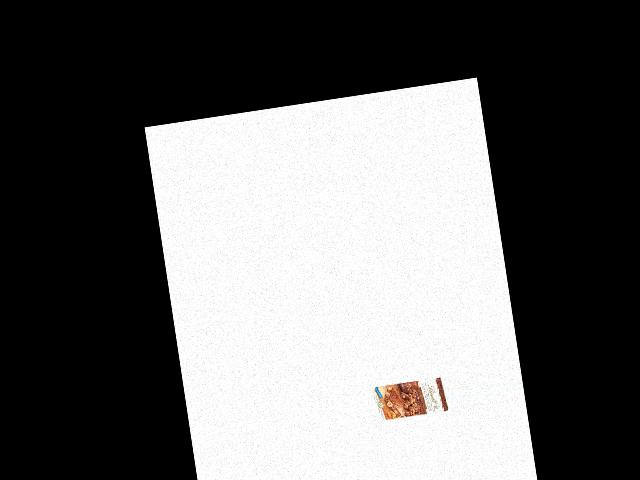chocolate: (373, 374, 446, 426)
